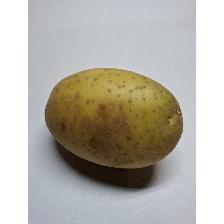Kartoffel: (41, 65, 186, 171)
